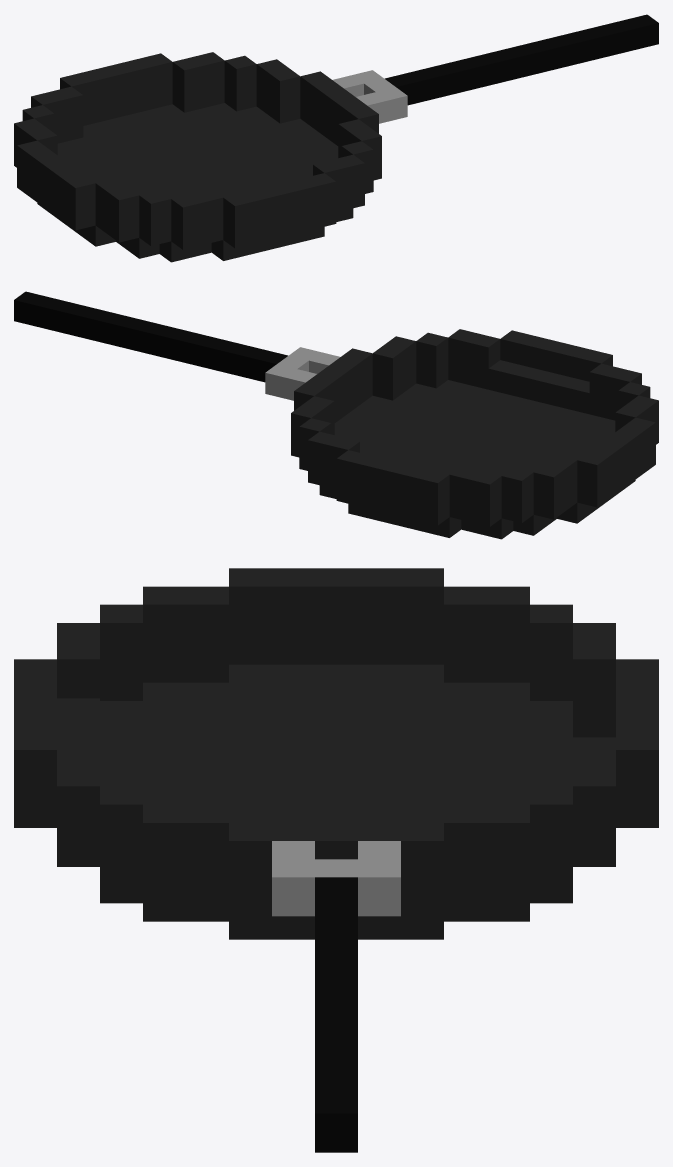
File: Pan.obj
3 views of the same model, one above another, from view 1: azimuth 30°, elevation 25°; view 2: azimuth 150°, elevation 25°; view 3: azimuth 270°, elevation 25° (orthographic). The views are drawn at different scales.
Bounding box in the file's own units: 3 × 0.3 × 1.5.
1 material, 1 textured.
